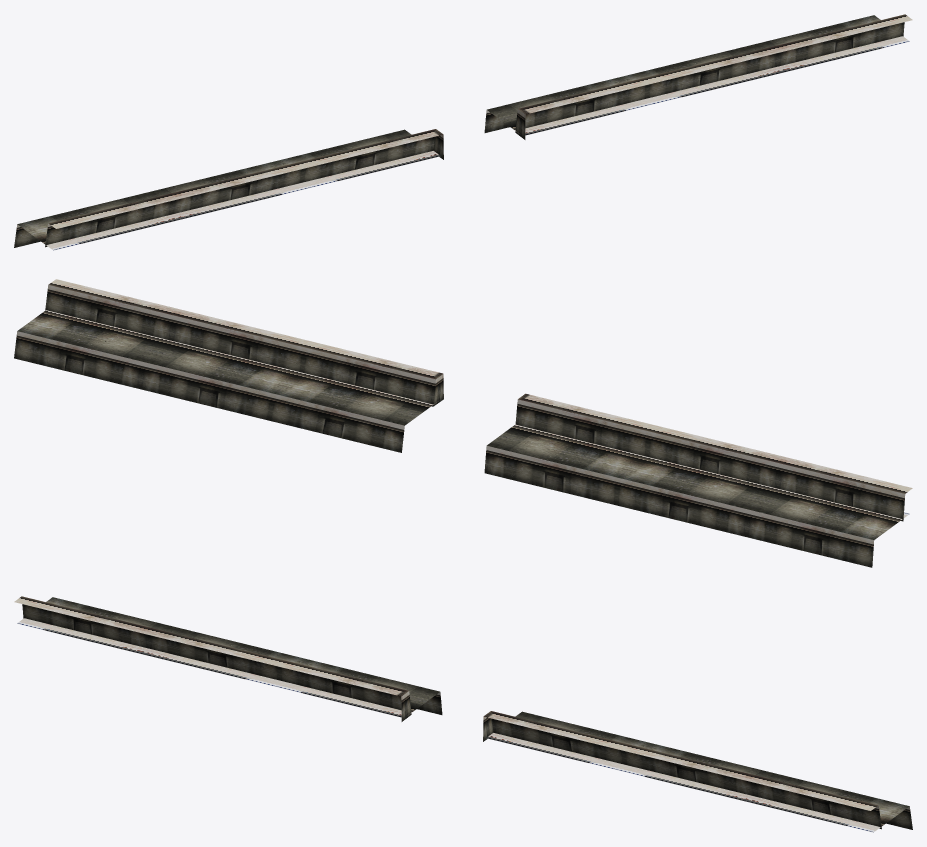
File: ny_bridge_dam.fbx
The picture shows the model from 3 angles, top to bottom: view 1: azimuth 30°, elevation 25°; view 2: azimuth 150°, elevation 25°; view 3: azimuth 330°, elevation 25°; orthographic projection.
Visible parts, largest first — view 1: ny_bridge_dam; view 2: ny_bridge_dam; view 3: ny_bridge_dam.
Boxes of the visible parts, x1,y1,x2,y2 form: ny_bridge_dam: (14,14,912,250); ny_bridge_dam: (14,279,912,567); ny_bridge_dam: (14,596,912,832).
Size of the model in its own units: 19908 by 1090 by 1665.
